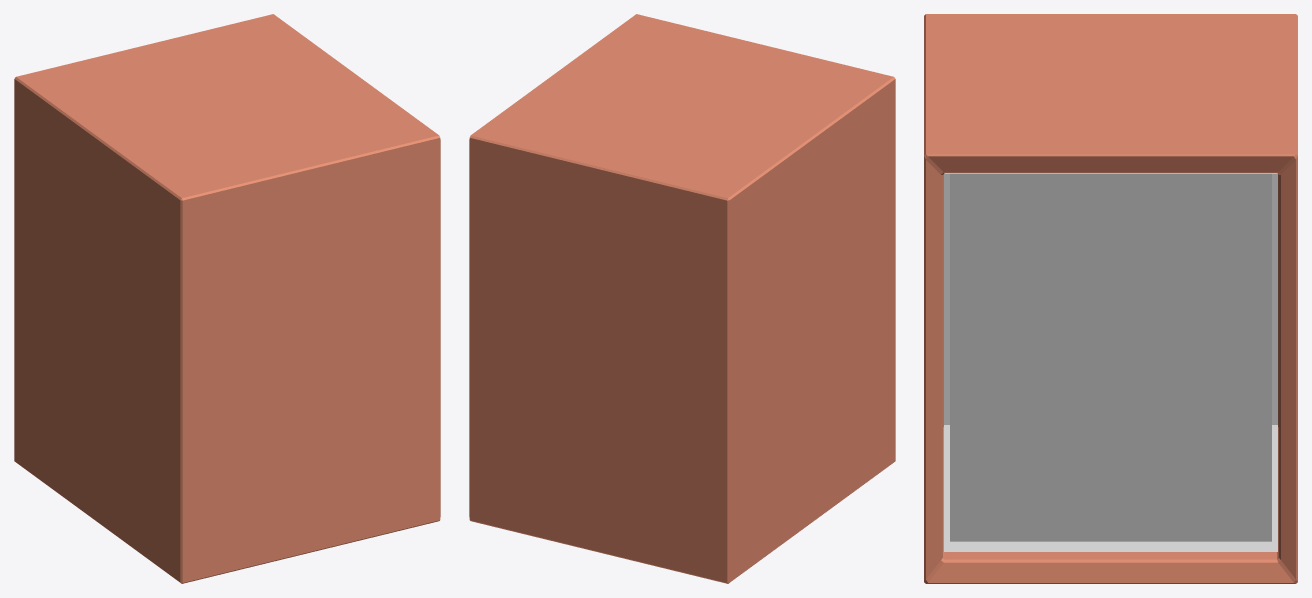
File: Valsoto_5.fbx
3 renders of one model, left to right at view 1: azimuth 30°, elevation 25°; view 2: azimuth 150°, elevation 25°; view 3: azimuth 270°, elevation 25°, orthographic. The views are drawn at different scales.
Parts seen in each view (by area): view 1: Plane.003; view 2: Plane.003; view 3: Primera fila, Plane.003, Plane.002.
Part boxes in pixels (x1,y1,x2,y2): Plane.003: [14, 14, 440, 583]; Plane.003: [469, 14, 895, 583]; Primera fila: [950, 173, 1271, 541]; Plane.003: [924, 14, 1297, 583]; Plane.002: [944, 173, 1277, 551].
Bounding box in the file's own units: 81.46 × 115 × 90.93.
